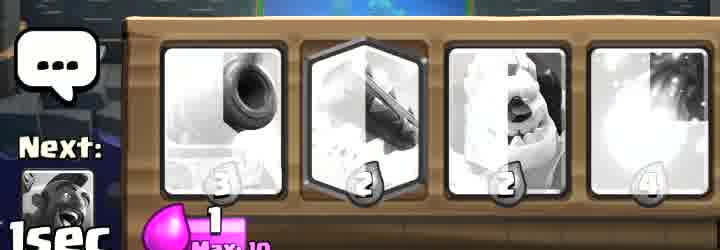hog-rider: (21, 169, 90, 232)
